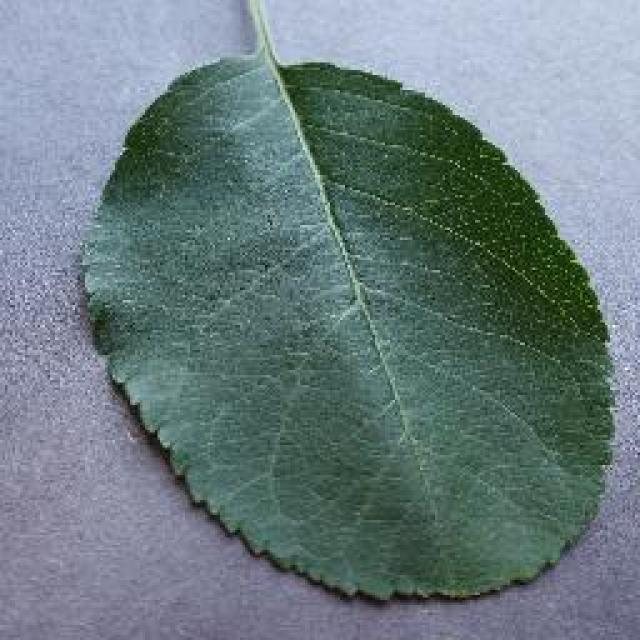apple healthy: (74, 0, 617, 602)
